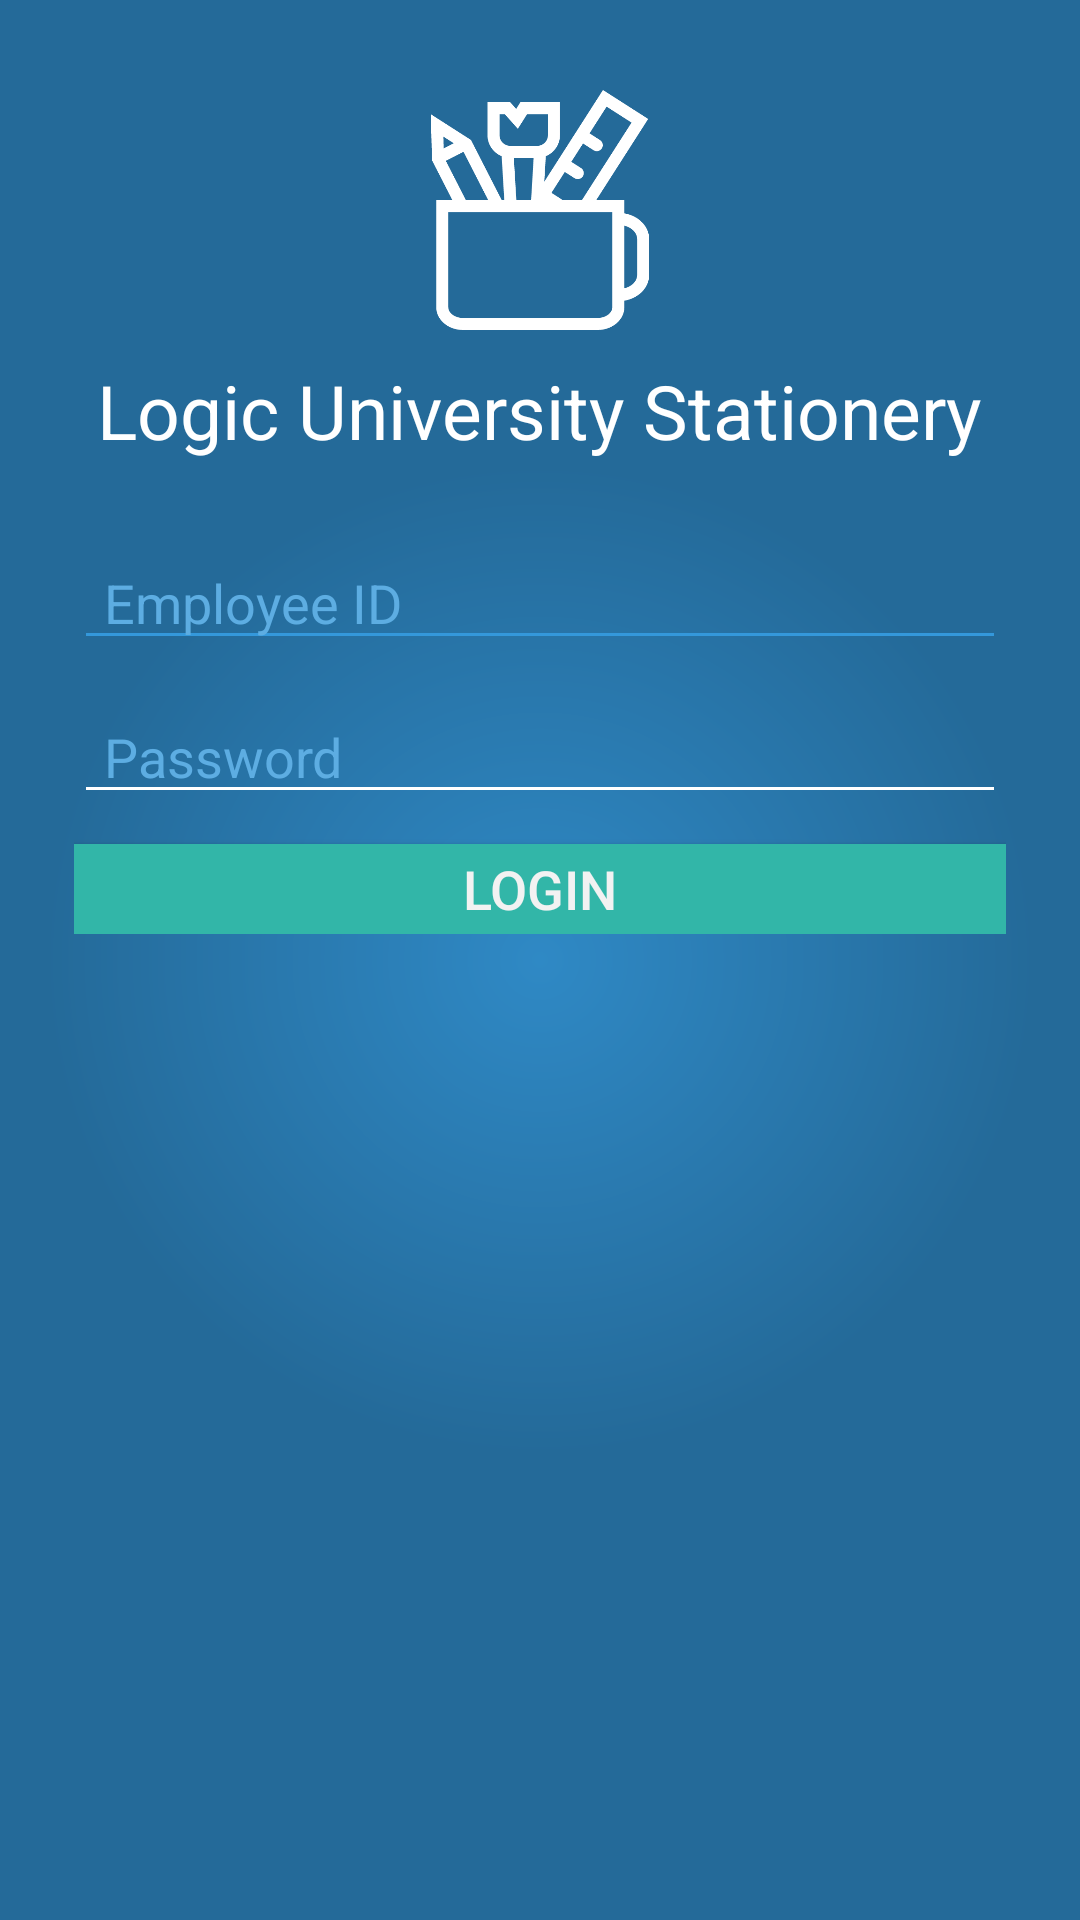

Icons on this 1080×1920 Android screen, each with the point to tap as point (x, y):
office: point (540, 210)
